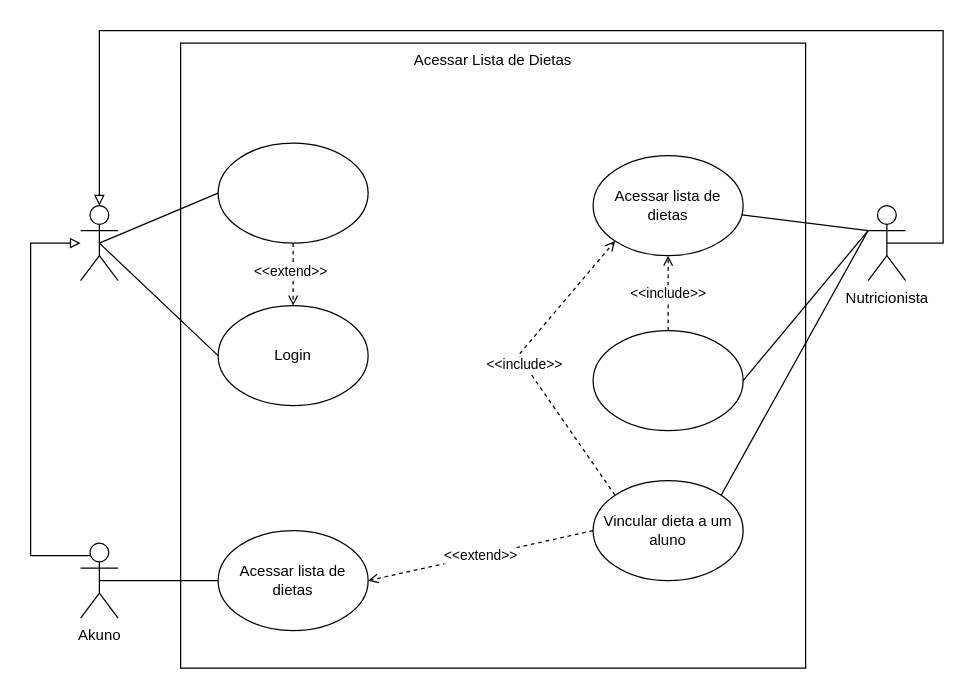
The diagram is 975 pixels wide and 700 high, and some of its shapes have lost their labels. Each missing label, with the centre of its shape:
Adicionar dietas na lista: the point at 667,380
Registrar: the point at 292,192
User: the point at 98,242
